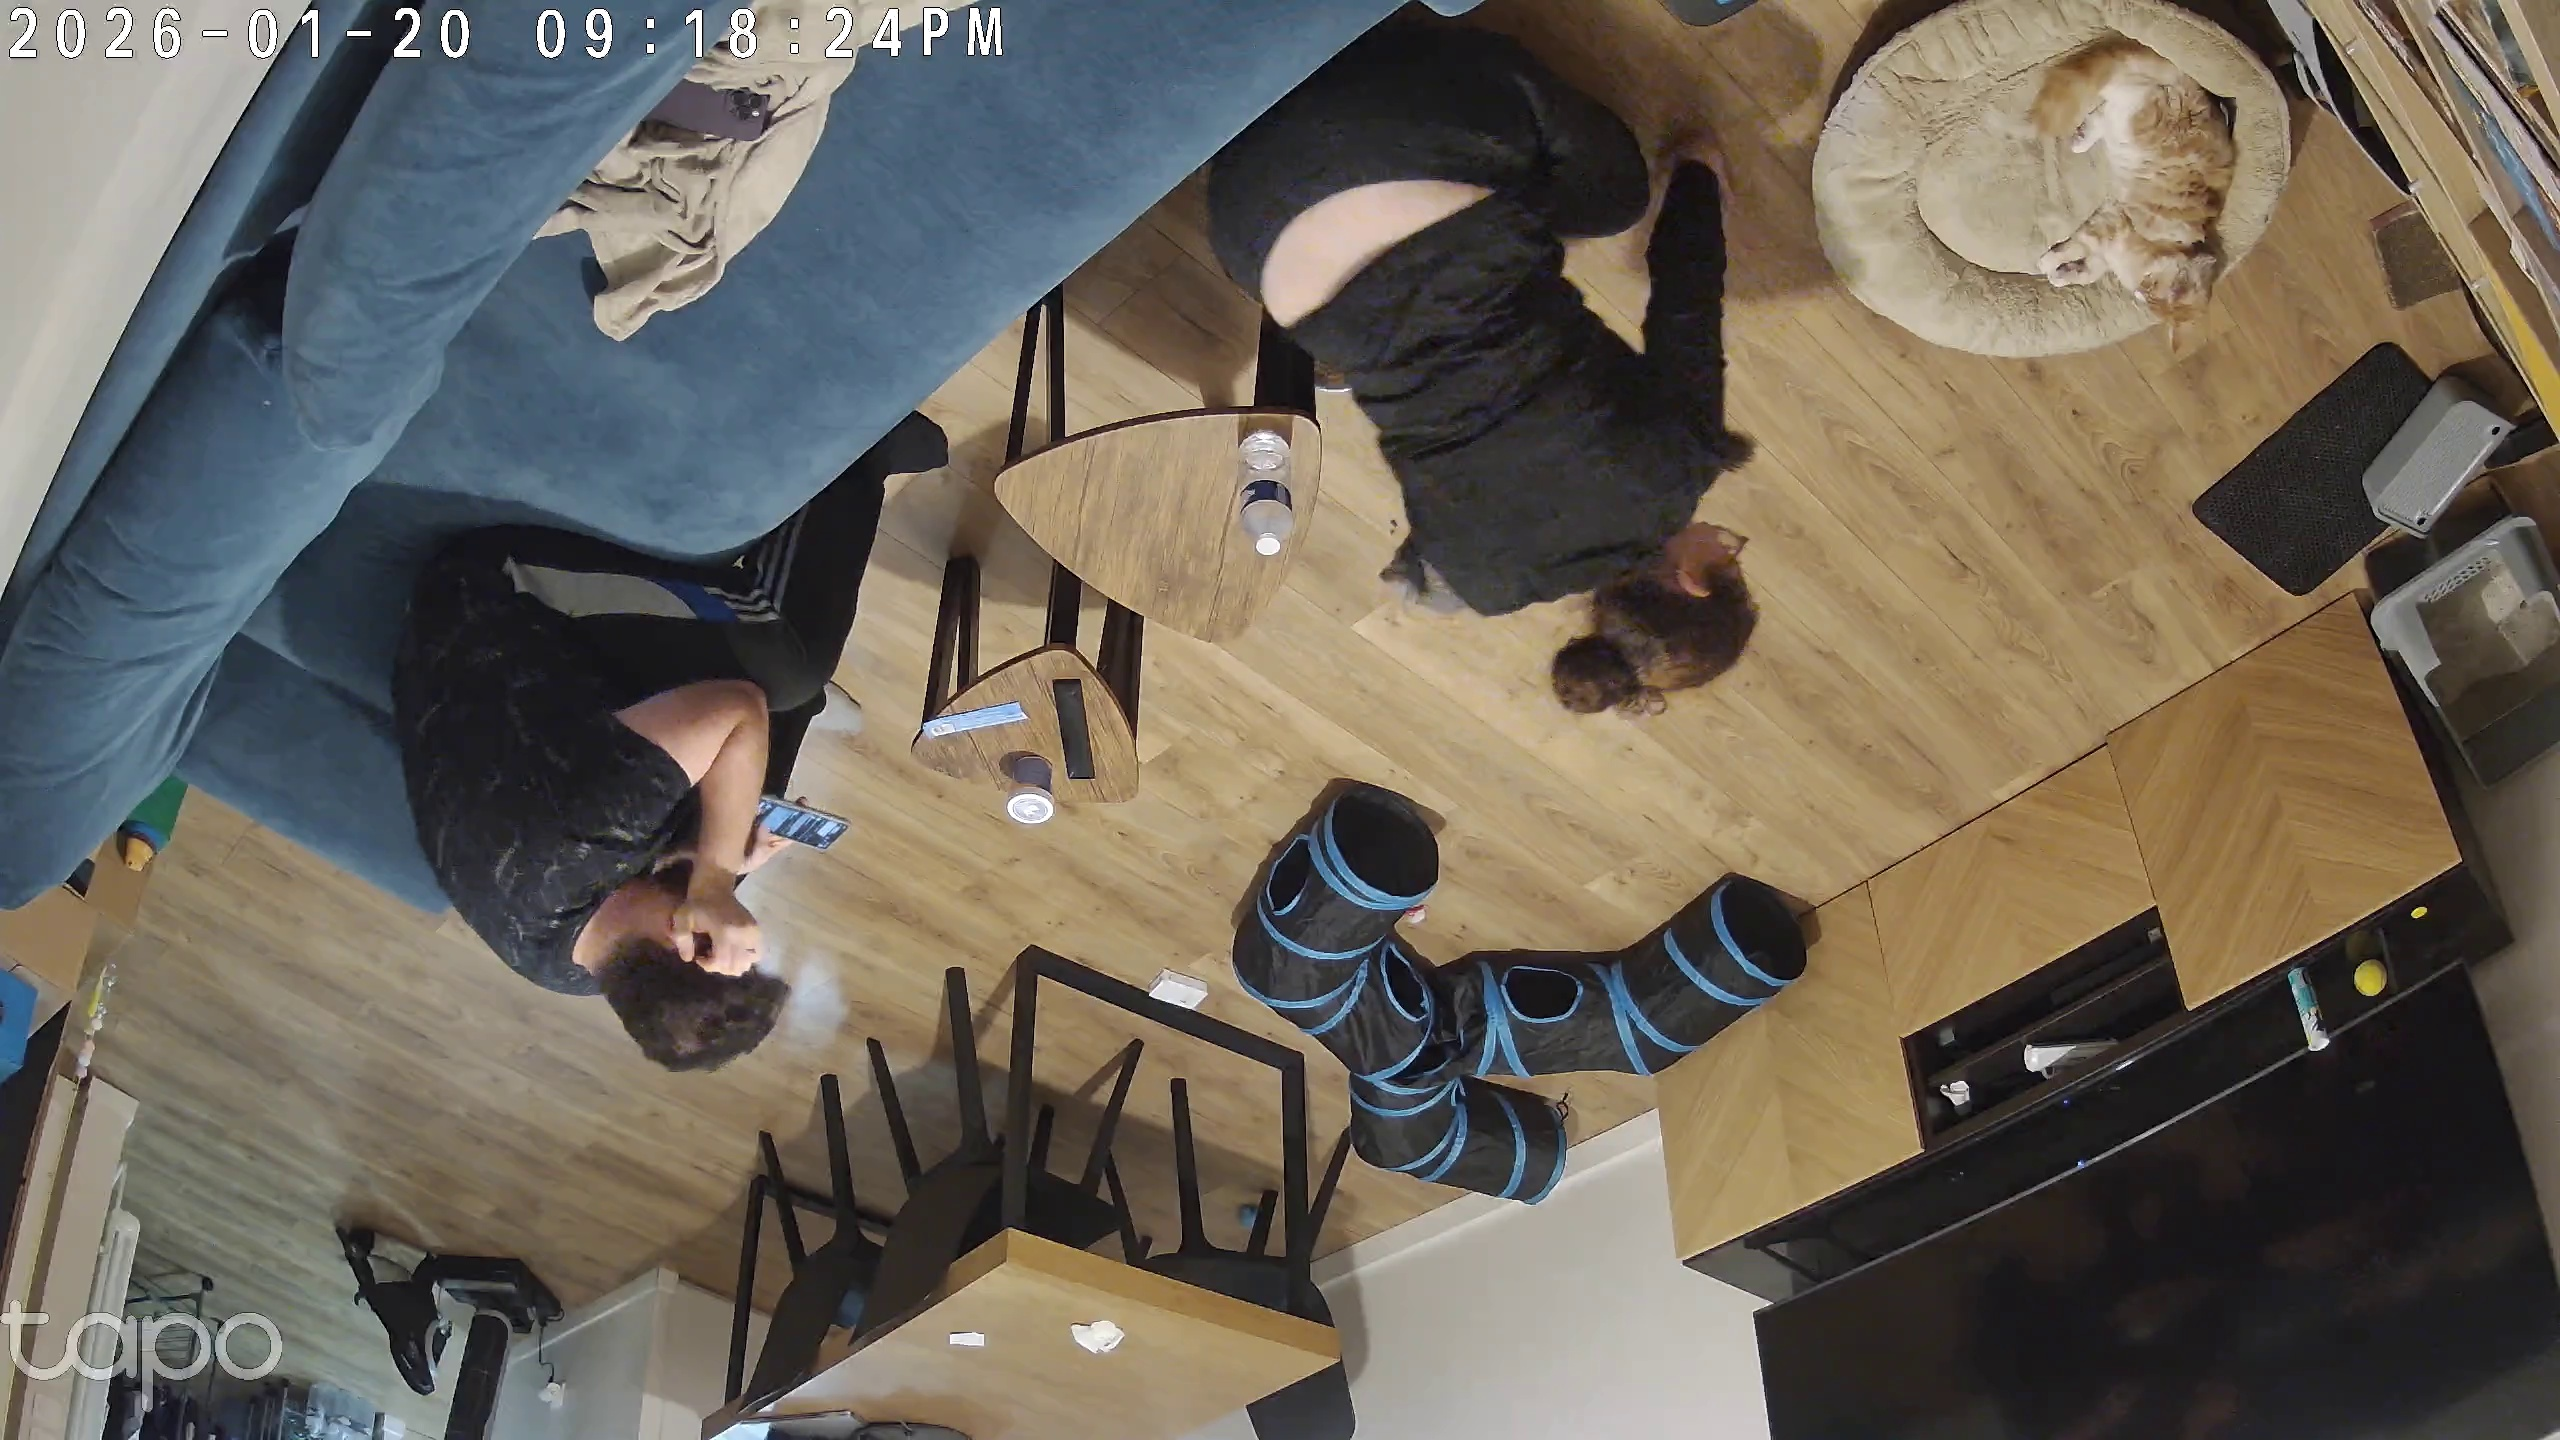Nala: (1382, 394, 1785, 638)
Simba: (2024, 32, 2242, 359)
